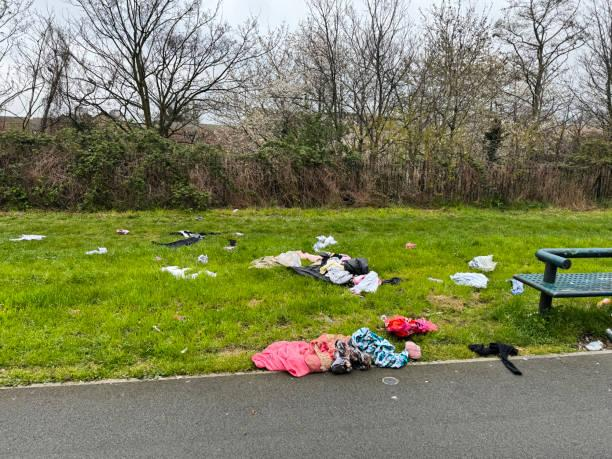trash: (257, 245, 372, 300), (253, 337, 338, 379), (154, 222, 218, 257), (153, 253, 214, 288), (350, 333, 410, 366), (314, 328, 358, 373), (380, 312, 439, 338), (474, 335, 515, 368), (443, 270, 491, 294), (462, 250, 499, 275), (80, 242, 111, 262), (190, 248, 217, 270), (321, 227, 342, 254), (227, 233, 249, 258), (225, 223, 250, 243), (408, 334, 425, 360), (509, 274, 527, 298), (587, 335, 603, 360), (23, 232, 52, 243), (111, 226, 134, 238)
